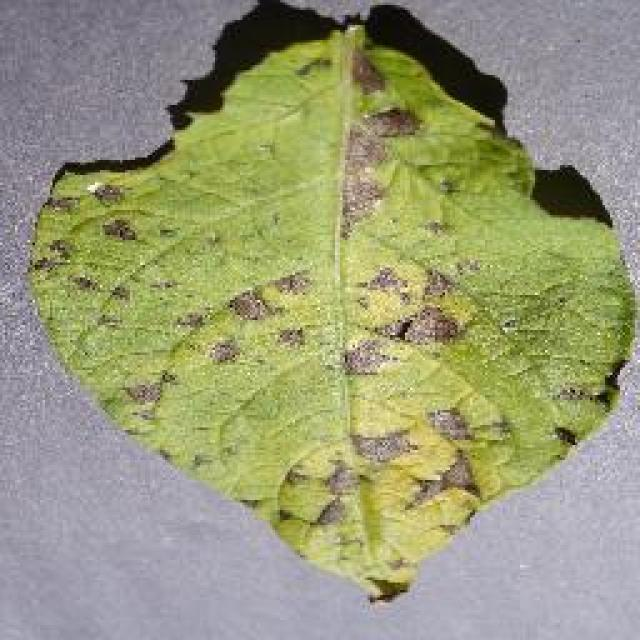Potato___Early_blight: (24, 19, 638, 618)
